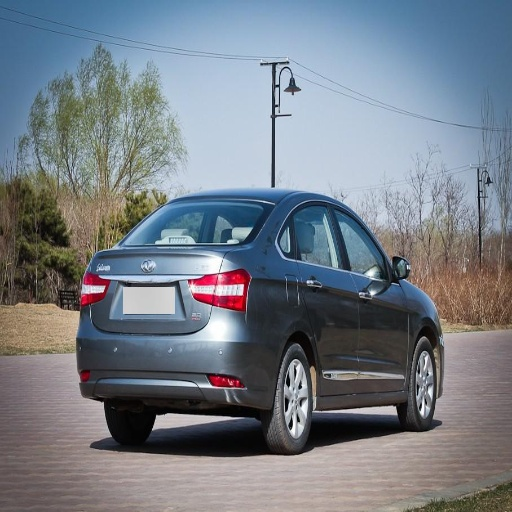back_bumper: (74, 304, 283, 405)
back_right_door: (288, 200, 357, 392)
back_right_light: (208, 270, 249, 308)
tailgate: (91, 247, 218, 332)
